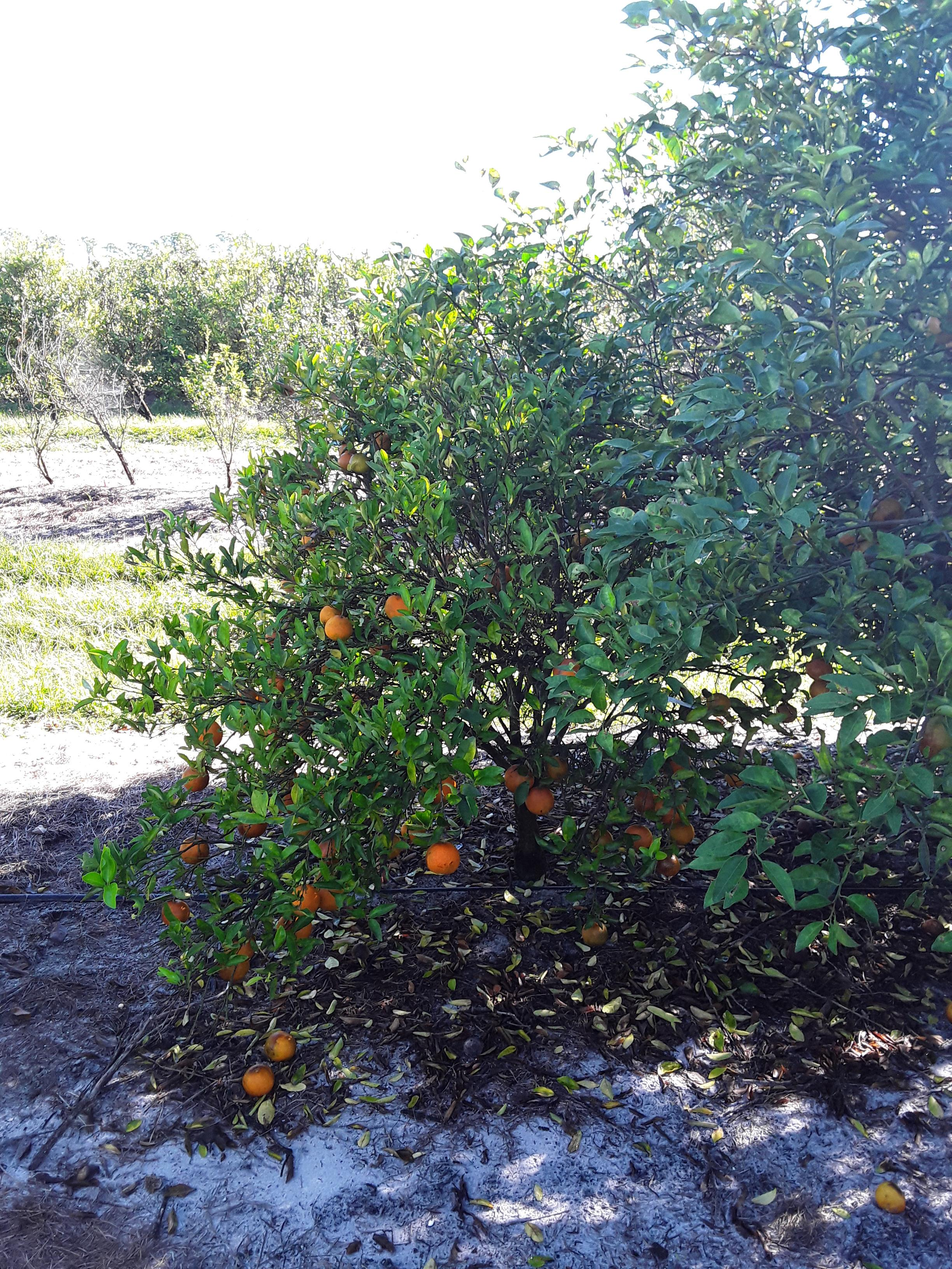fruit_on_ground: (213, 938, 257, 984), (915, 713, 952, 762), (473, 556, 519, 594), (417, 772, 464, 808), (278, 772, 320, 810), (866, 493, 906, 531), (423, 839, 463, 877), (282, 803, 320, 841), (187, 713, 226, 749), (275, 910, 316, 942), (232, 806, 270, 840), (577, 914, 612, 949), (309, 831, 347, 863), (285, 879, 320, 912), (654, 796, 690, 828), (158, 896, 193, 928), (549, 652, 585, 683), (382, 590, 416, 622), (523, 784, 557, 816), (377, 830, 412, 861), (176, 763, 211, 794), (175, 835, 210, 866), (394, 813, 430, 843), (317, 883, 349, 916), (501, 762, 534, 794), (621, 821, 655, 852), (922, 309, 951, 345), (585, 826, 617, 857), (805, 674, 838, 704), (631, 784, 663, 814), (247, 719, 283, 745), (765, 695, 797, 724), (702, 690, 734, 719), (539, 753, 571, 782), (802, 653, 835, 681), (324, 614, 355, 642), (667, 820, 697, 848), (276, 786, 307, 813), (660, 753, 692, 779), (362, 640, 392, 665), (345, 449, 372, 476), (262, 672, 290, 698), (654, 852, 682, 878), (256, 622, 285, 645), (235, 685, 260, 711), (722, 765, 749, 789), (275, 570, 302, 594), (295, 528, 321, 552), (318, 603, 343, 626), (371, 430, 393, 452), (334, 452, 357, 473), (336, 442, 358, 461)
fruit_on_tree: (238, 1061, 278, 1100), (873, 1178, 909, 1215), (261, 1029, 299, 1064), (918, 913, 947, 938), (789, 749, 805, 761)
